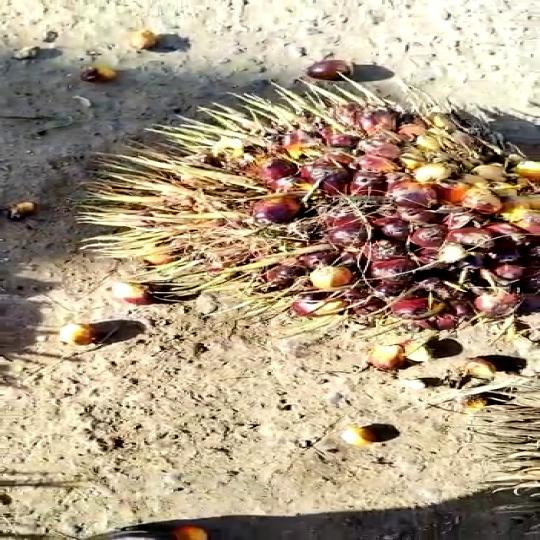masak: (93, 73, 540, 344)
